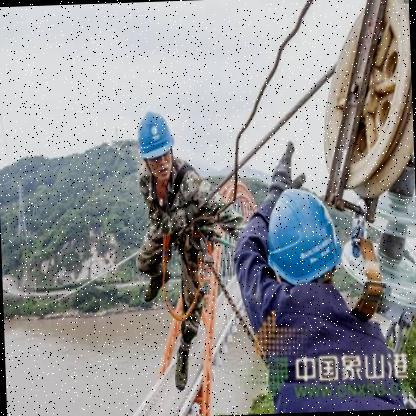capacete: (261, 182, 346, 291), (136, 108, 176, 180)
sem_colete_refletivo: (245, 270, 406, 414), (136, 161, 218, 264)
